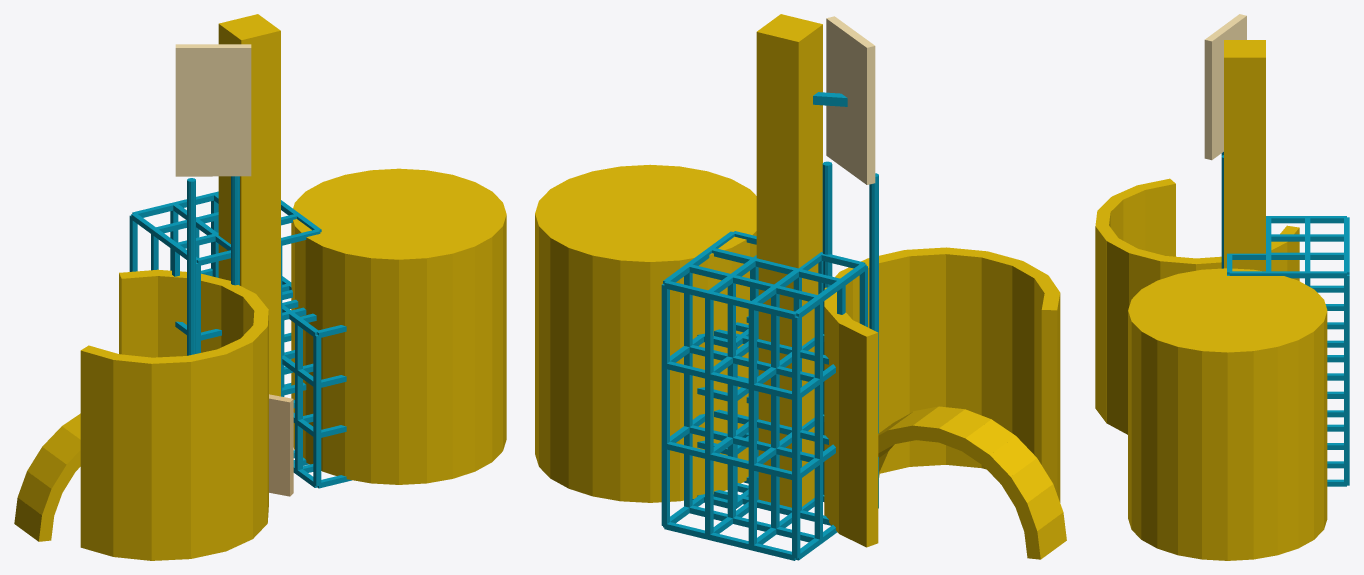
Rendered from folie_tag_020.glb.
3 views of the same model, side by side, from view 1: azimuth 30°, elevation 25°; view 2: azimuth 150°, elevation 25°; view 3: azimuth 270°, elevation 25° (orthographic). The views are drawn at different scales.
Visible parts, largest first — view 1: folie_tag_020_00_drum, folie_tag_020_03_curve, folie_tag_020_core, folie_tag_020_05_panel, folie_tag_020_01_cage, folie_tag_020_02_cage, folie_tag_020_04_arc, folie_tag_020_line, folie_tag_020_06_panel; view 2: folie_tag_020_00_drum, folie_tag_020_03_curve, folie_tag_020_01_cage, folie_tag_020_core, folie_tag_020_04_arc, folie_tag_020_05_panel, folie_tag_020_line, folie_tag_020_02_cage; view 3: folie_tag_020_00_drum, folie_tag_020_03_curve, folie_tag_020_core, folie_tag_020_01_cage, folie_tag_020_05_panel, folie_tag_020_line.
Boxes of the visible parts, bbox=[...] form: folie_tag_020_00_drum: bbox=[291, 168, 506, 484]; folie_tag_020_03_curve: bbox=[80, 269, 268, 560]; folie_tag_020_core: bbox=[218, 14, 280, 396]; folie_tag_020_05_panel: bbox=[175, 44, 251, 176]; folie_tag_020_01_cage: bbox=[129, 191, 321, 465]; folie_tag_020_02_cage: bbox=[282, 283, 351, 488]; folie_tag_020_04_arc: bbox=[14, 413, 80, 541]; folie_tag_020_line: bbox=[187, 176, 239, 355]; folie_tag_020_06_panel: bbox=[269, 394, 293, 496]; folie_tag_020_00_drum: bbox=[535, 164, 756, 502]; folie_tag_020_03_curve: bbox=[824, 247, 1060, 547]; folie_tag_020_01_cage: bbox=[661, 231, 867, 560]; folie_tag_020_core: bbox=[756, 14, 822, 507]; folie_tag_020_04_arc: bbox=[878, 406, 1066, 559]; folie_tag_020_05_panel: bbox=[826, 16, 875, 184]; folie_tag_020_line: bbox=[813, 92, 878, 508]; folie_tag_020_02_cage: bbox=[692, 322, 748, 508]; folie_tag_020_00_drum: bbox=[1128, 268, 1327, 560]; folie_tag_020_03_curve: bbox=[1095, 178, 1299, 434]; folie_tag_020_core: bbox=[1224, 40, 1265, 271]; folie_tag_020_01_cage: bbox=[1227, 216, 1349, 486]; folie_tag_020_05_panel: bbox=[1204, 14, 1246, 160]; folie_tag_020_line: bbox=[1221, 152, 1223, 268].
Size of the model in its own units: 13.05 by 11.78 by 6.63.
